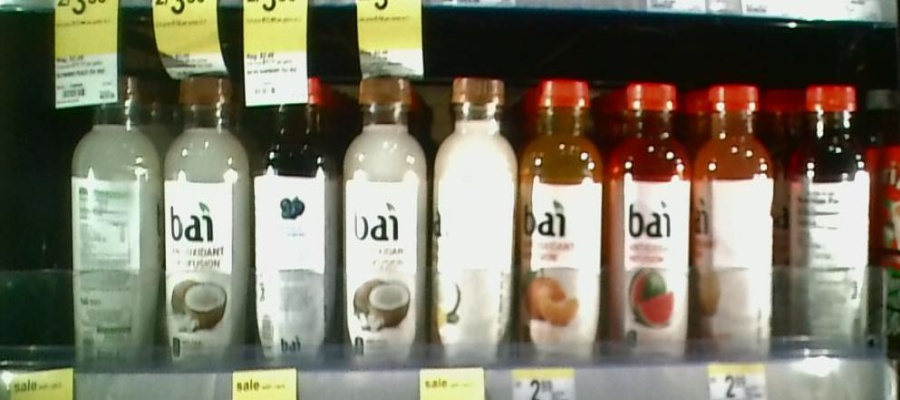bottle: (506, 68, 606, 352), (62, 70, 159, 355), (777, 68, 872, 349), (691, 69, 781, 359), (334, 65, 426, 348), (164, 71, 253, 349), (606, 70, 692, 356), (251, 67, 338, 349), (426, 72, 512, 346)
